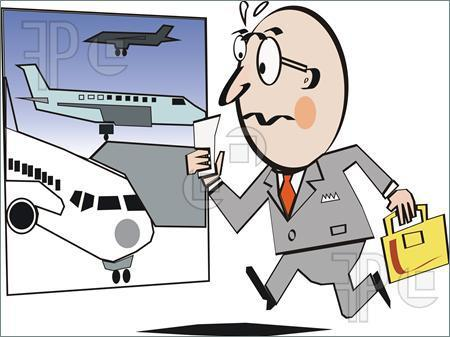aeroplane: (5, 108, 154, 286), (12, 59, 211, 144), (78, 18, 183, 67)
person: (168, 7, 411, 323)
